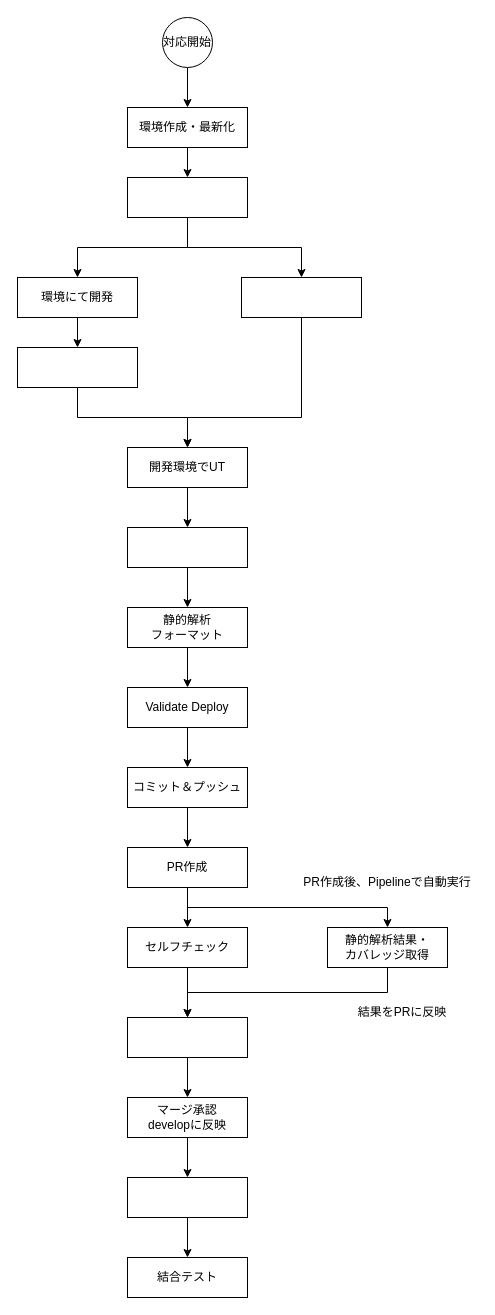
This 495x1315 diagram has some shape labels left out. Each missing label, with the centre of its shape:
featureブランチ作成: (x=187, y=197)
メタデータ取得: (x=77, y=367)
レビュー: (x=187, y=1037)
ローカルにてメタデータ直接修正: (x=301, y=297)
必要な環境に自動デプロイ: (x=187, y=1197)
環境変数を定義: (x=187, y=547)
